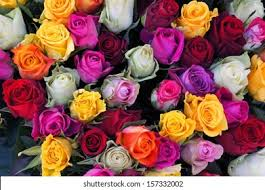lale: (29, 130, 72, 178), (32, 17, 80, 60), (41, 64, 89, 105), (2, 76, 46, 120), (120, 38, 161, 85), (122, 121, 163, 168), (210, 45, 249, 94), (180, 136, 225, 176), (66, 90, 112, 129), (188, 91, 227, 137), (14, 41, 56, 82), (27, 107, 71, 140), (151, 26, 185, 68), (212, 17, 249, 54), (66, 12, 100, 52), (104, 68, 136, 107), (226, 118, 265, 150), (174, 65, 217, 94), (76, 128, 112, 161), (159, 107, 194, 139), (75, 49, 109, 80), (152, 141, 187, 171), (183, 2, 212, 37), (152, 78, 181, 112), (147, 0, 186, 25), (97, 141, 133, 168), (182, 35, 212, 66), (42, 0, 85, 20), (224, 97, 247, 123)
